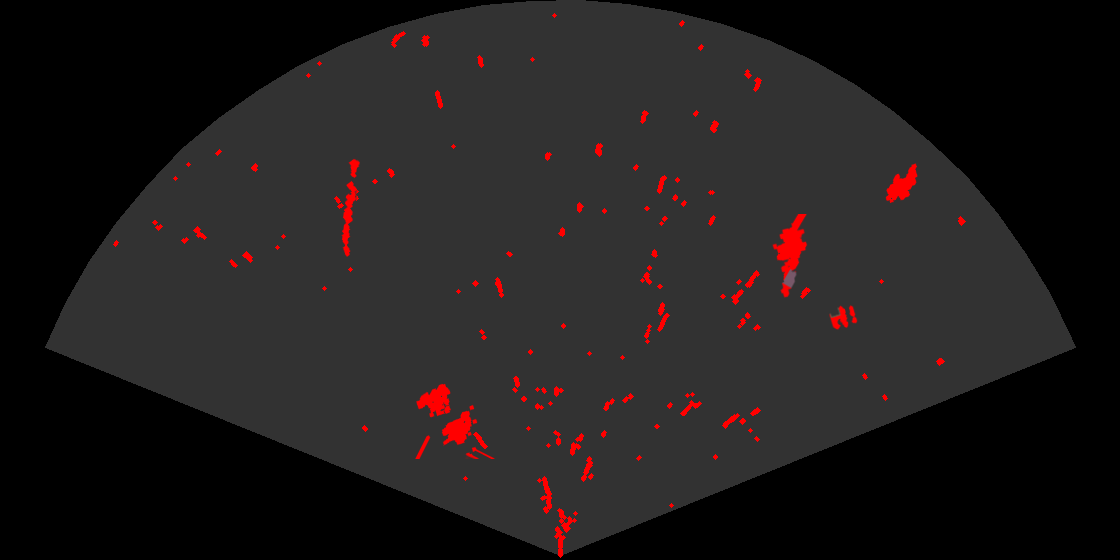AUV: (884, 162, 919, 205)
ball: (827, 304, 859, 331)
cage: (414, 382, 496, 459)
chain: (340, 156, 361, 258)
frogman: (771, 214, 809, 299)
